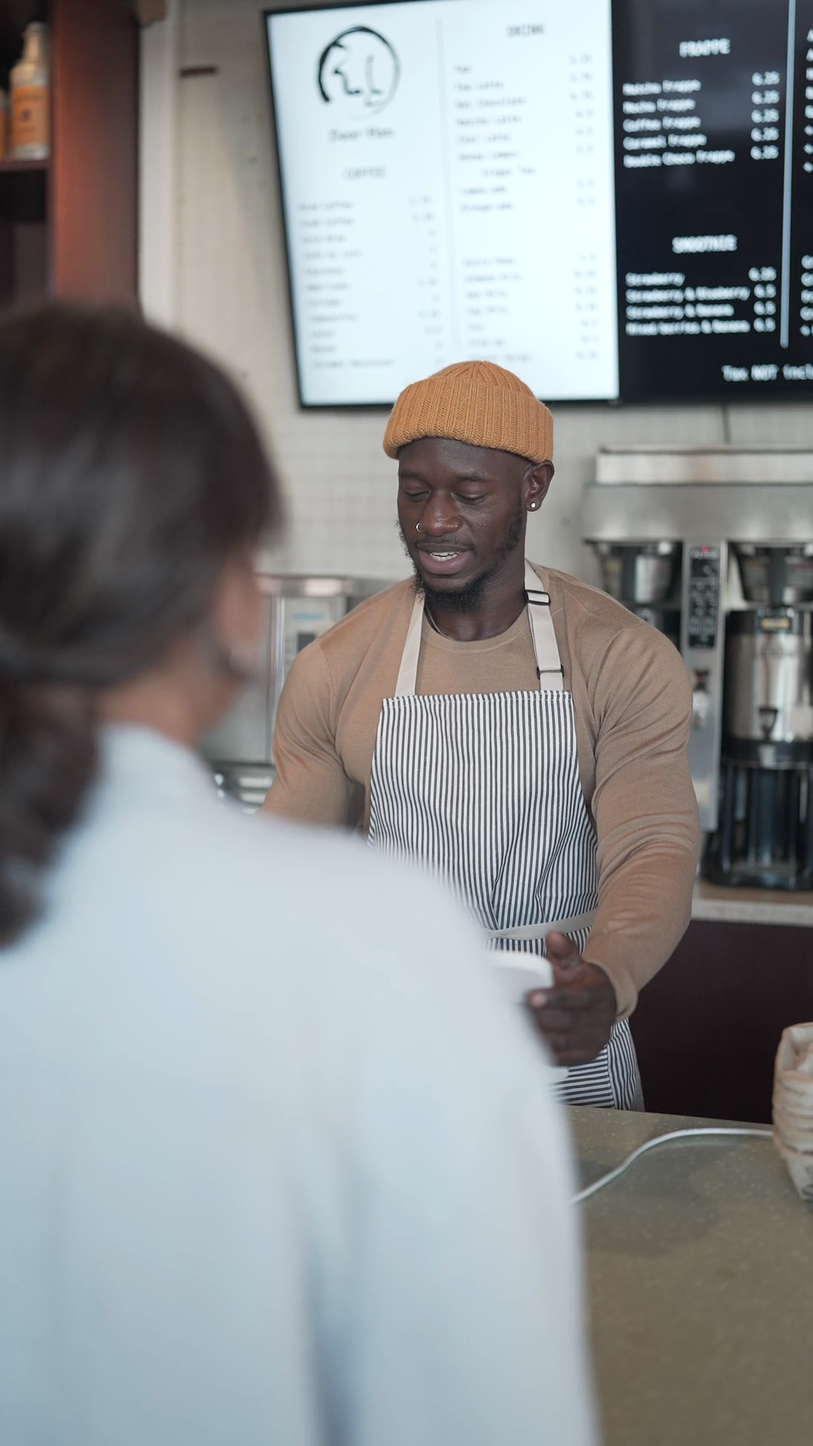dates_box: (243, 0, 813, 427)
watch: (349, 467, 813, 1365), (275, 305, 813, 938), (394, 651, 813, 1393), (0, 514, 593, 985), (397, 845, 813, 1445), (337, 440, 813, 938), (283, 303, 778, 765), (538, 880, 813, 1445)
